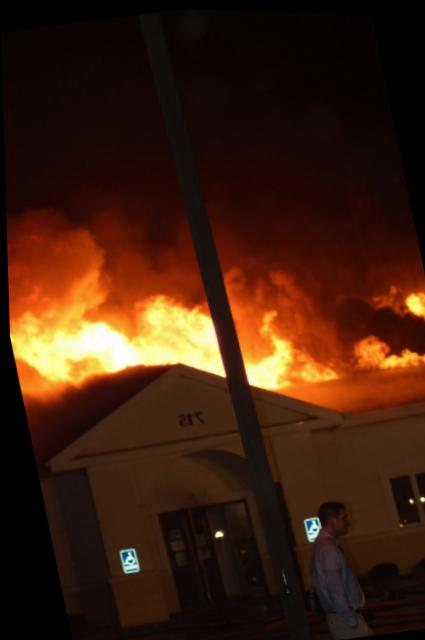fire: (5, 246, 424, 447)
